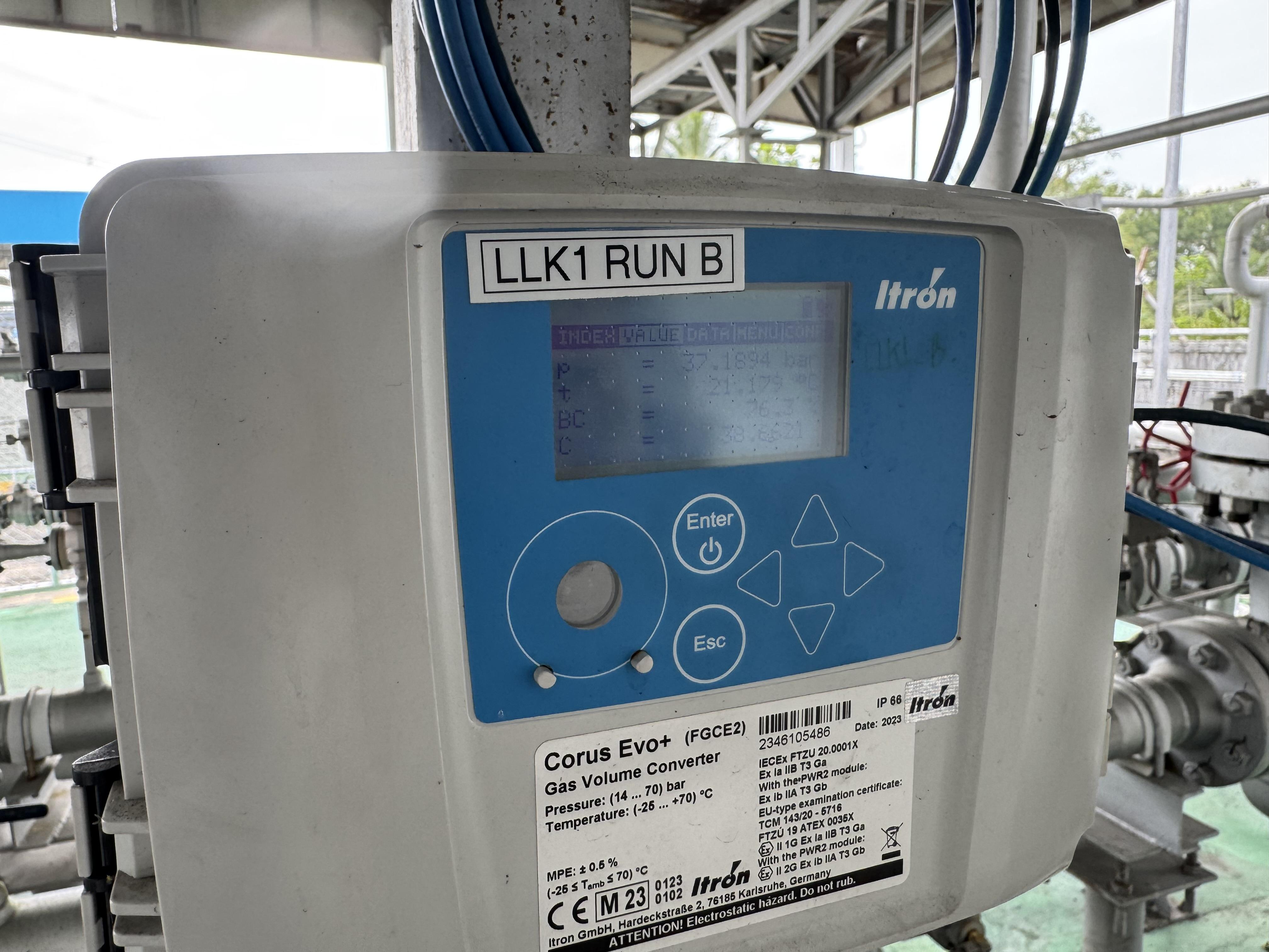digital_screen: (548, 281, 857, 482)
